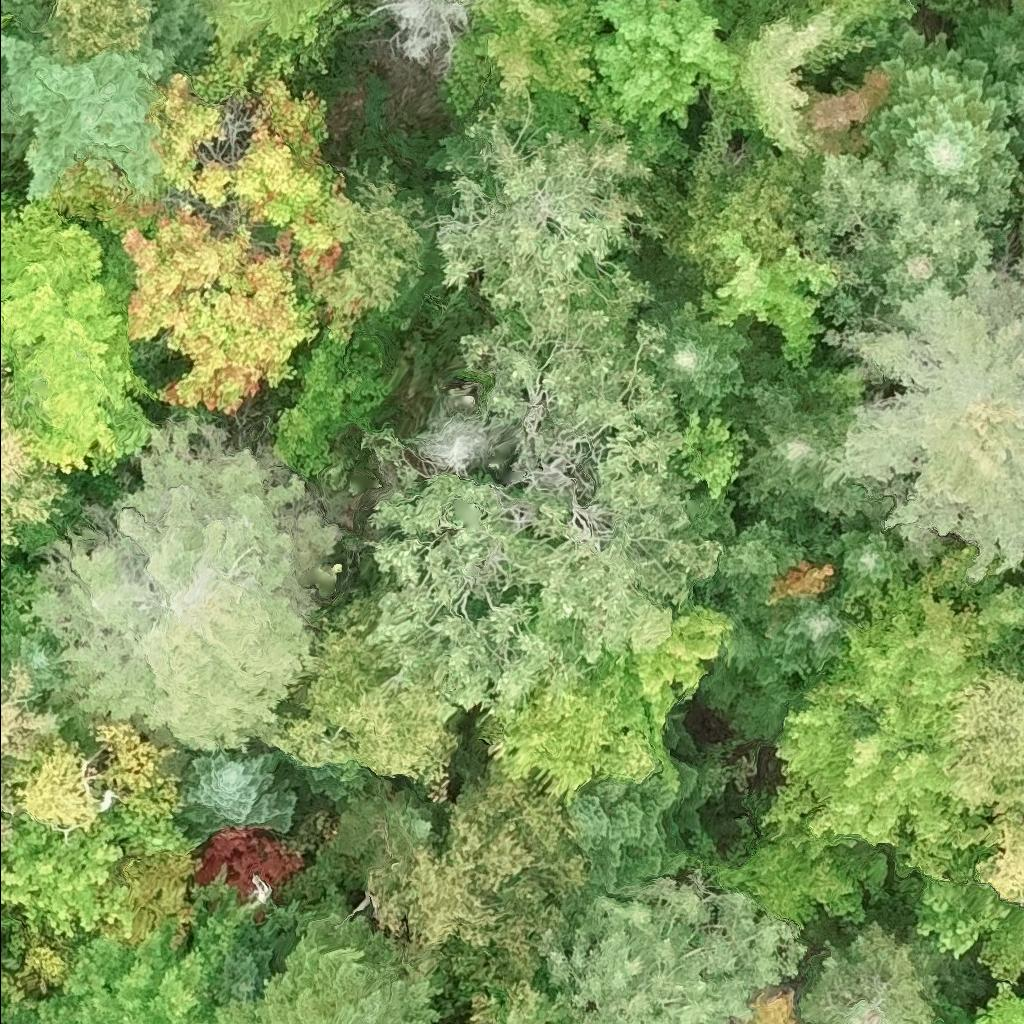crown: (363, 274, 723, 728), (22, 411, 343, 776), (761, 544, 1023, 882), (120, 75, 353, 417), (815, 239, 1023, 585), (432, 114, 656, 337), (368, 773, 589, 995), (0, 198, 159, 479), (0, 0, 214, 204), (797, 148, 1020, 332), (537, 878, 808, 1023), (268, 593, 461, 779), (209, 881, 453, 1023), (473, 644, 676, 806), (26, 885, 248, 1023), (0, 799, 207, 942), (857, 21, 1021, 199), (580, 0, 743, 144), (665, 149, 822, 298), (442, 0, 602, 144), (625, 602, 744, 790), (739, 377, 867, 546), (313, 147, 426, 338), (938, 667, 1023, 904), (566, 761, 711, 899), (696, 241, 840, 374), (641, 292, 785, 412), (0, 349, 72, 567), (794, 919, 940, 1023), (173, 739, 311, 836), (0, 661, 61, 849), (402, 384, 518, 482), (913, 848, 1013, 958), (10, 735, 98, 845), (89, 719, 182, 823), (719, 518, 807, 627), (746, 593, 846, 687), (49, 166, 176, 238), (797, 60, 890, 156), (361, 0, 473, 77), (673, 394, 751, 501), (192, 0, 337, 48), (826, 527, 916, 596), (371, 784, 453, 859), (211, 919, 279, 1005), (950, 0, 1023, 76), (0, 621, 66, 693), (807, 0, 916, 39), (765, 558, 836, 616), (293, 764, 364, 807), (0, 560, 40, 630), (736, 0, 813, 30), (971, 982, 1023, 1023), (1003, 64, 1023, 162), (751, 988, 801, 1023), (0, 967, 34, 1008), (1012, 0, 1023, 19), (701, 0, 717, 9), (456, 0, 478, 5)
